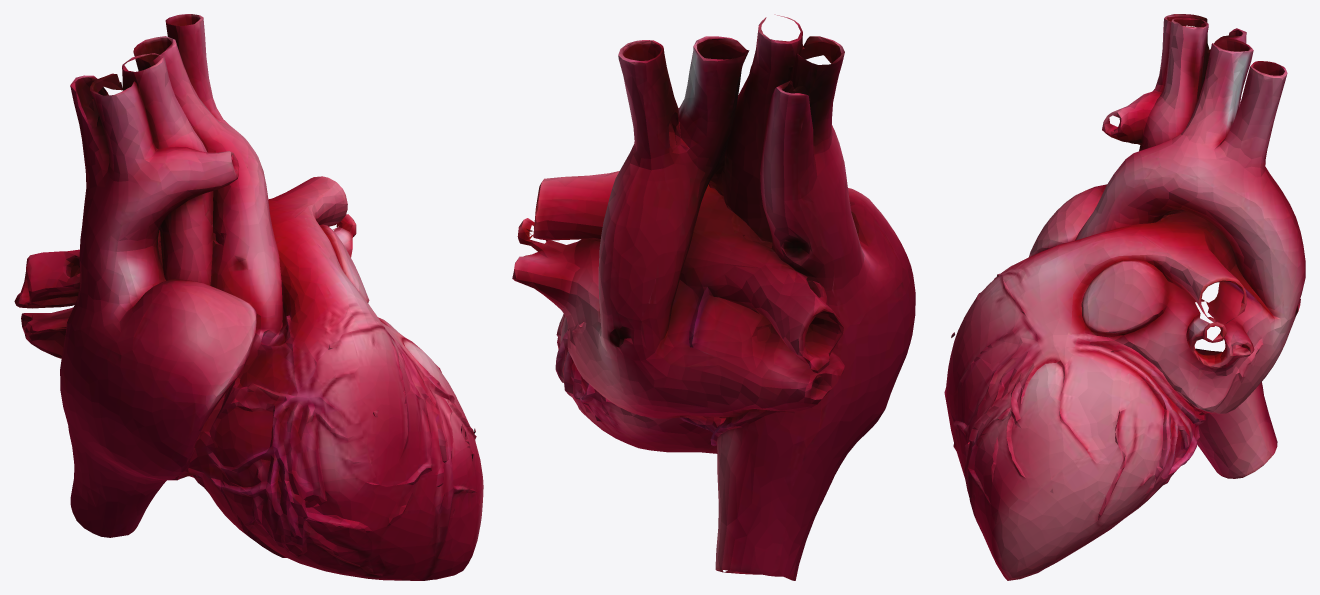
File: Heart.glb
3 views of the same model, side by side, from view 1: azimuth 30°, elevation 25°; view 2: azimuth 150°, elevation 25°; view 3: azimuth 270°, elevation 25° (orthographic). The views are drawn at different scales.
Parts seen in each view (by area): view 1: Heart; view 2: Heart; view 3: Heart.
Part boxes in pixels (x1,y1,x2,y2): Heart: (14,14,483,580); Heart: (512,14,915,580); Heart: (944,14,1305,580).
Size of the model in its own units: 0.604 by 0.8337 by 0.5868.
1 material, 1 textured.
